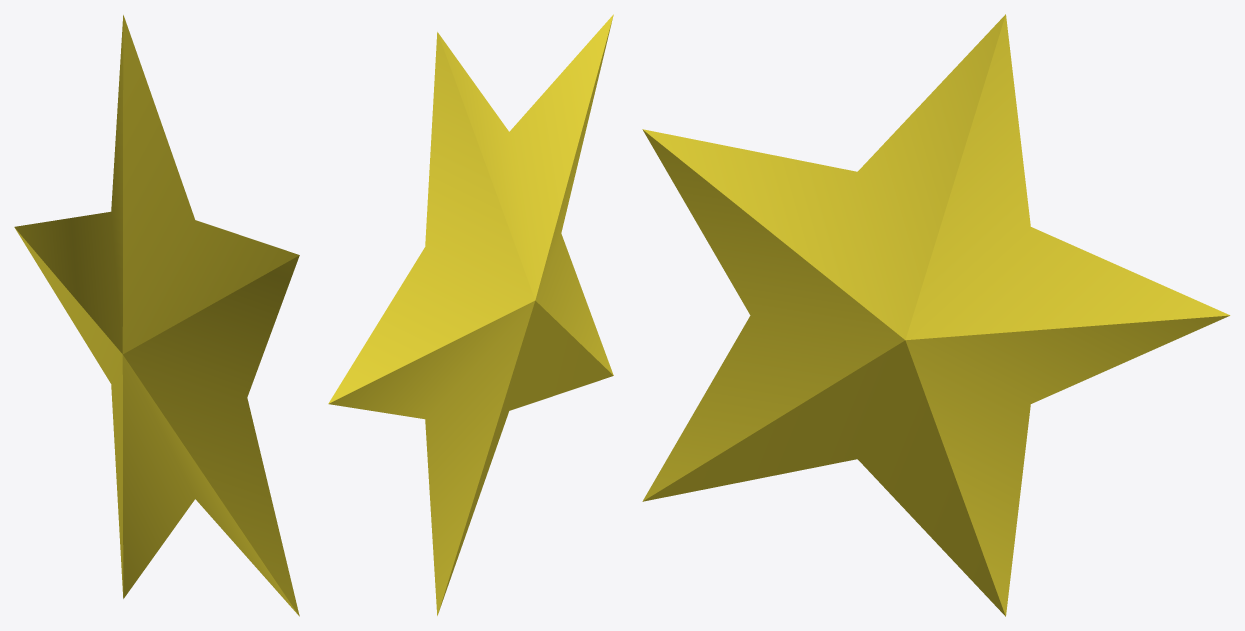
File: Star.glb
3 renders of one model, left to right at view 1: azimuth 30°, elevation 25°; view 2: azimuth 150°, elevation 25°; view 3: azimuth 270°, elevation 25°, orthographic. The views are drawn at different scales.
Parts seen in each view (by area): view 1: pCylinder3.001; view 2: pCylinder3.001; view 3: pCylinder3.001.
Boxes of the visible parts, <box> form: pCylinder3.001: <box>14,15,299,616</box>; pCylinder3.001: <box>328,14,613,615</box>; pCylinder3.001: <box>642,14,1230,616</box>.
Size of the model in its own units: 0.2576 by 1.46 by 1.29.
